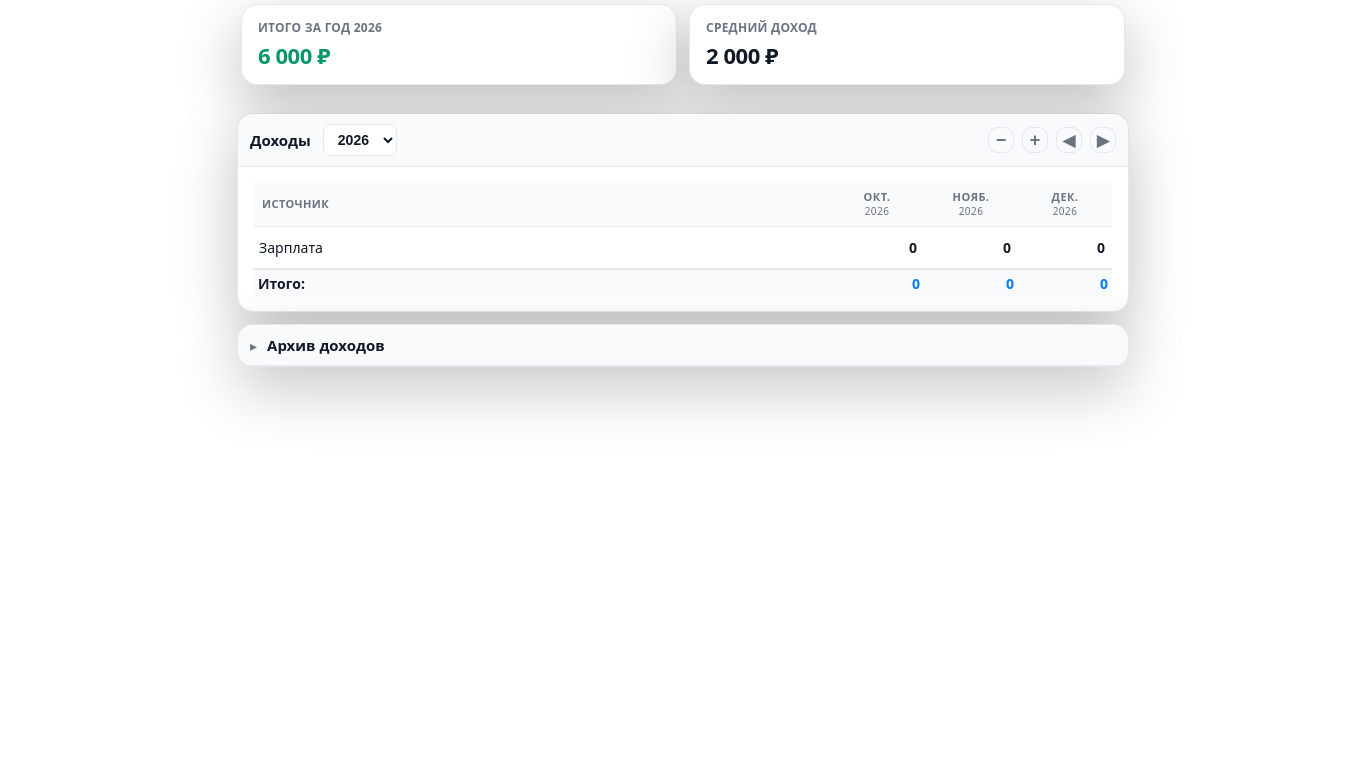
Test: IncomeArchive page › кнопка «−» открывает выбор источника для удаления
The image size is (1366, 768).
What coordinates should you click on to do the following:
click the button named "Удалить источник"
I would click on:
 (1001, 140)
Its box is [988,127,1014,153].
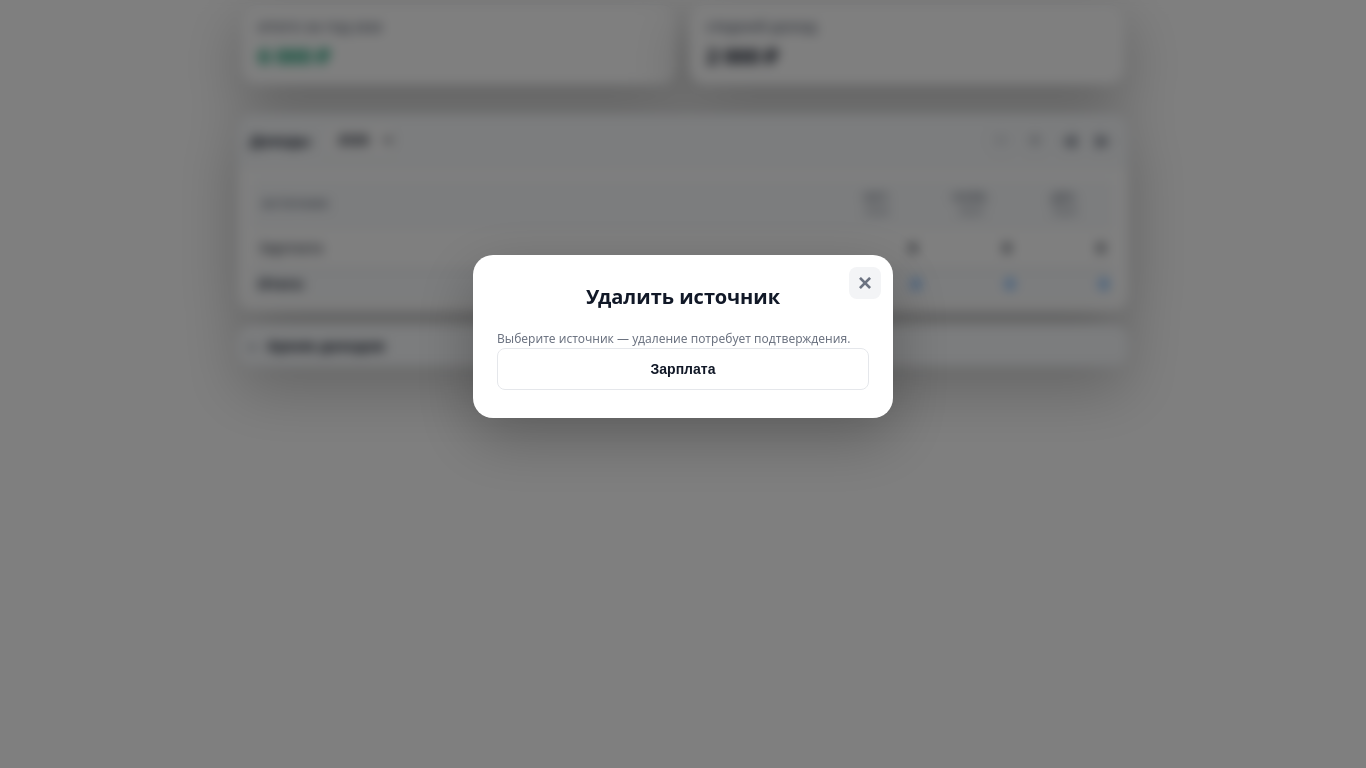
Expected: the heading "Удалить источник" is shown, [586,282,780,310]
What coordinates should you click on to do the following:
click the button "Зарплата"
I would click on:
 (683, 368)
Its box is [497,348,869,390].
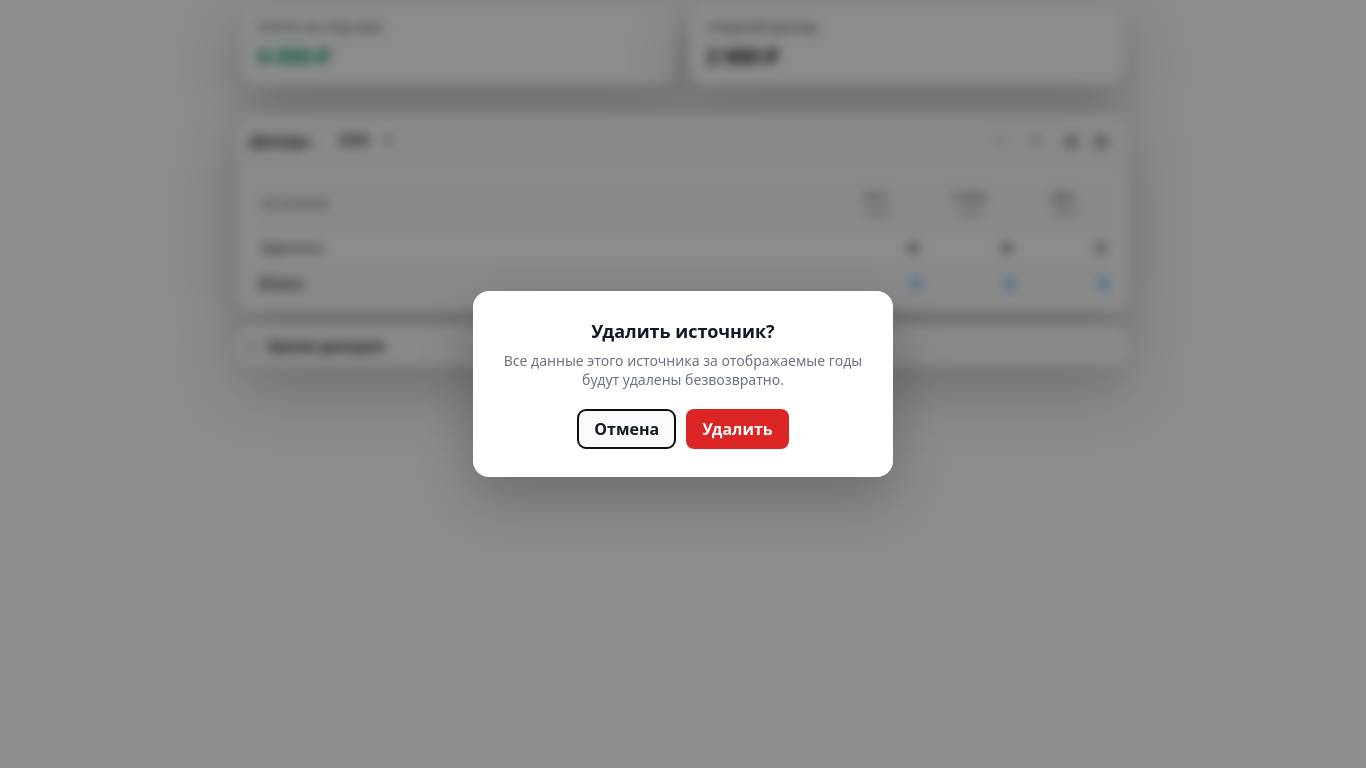
Expected: the heading "Удалить источник?" is shown, [591,319,775,343]
